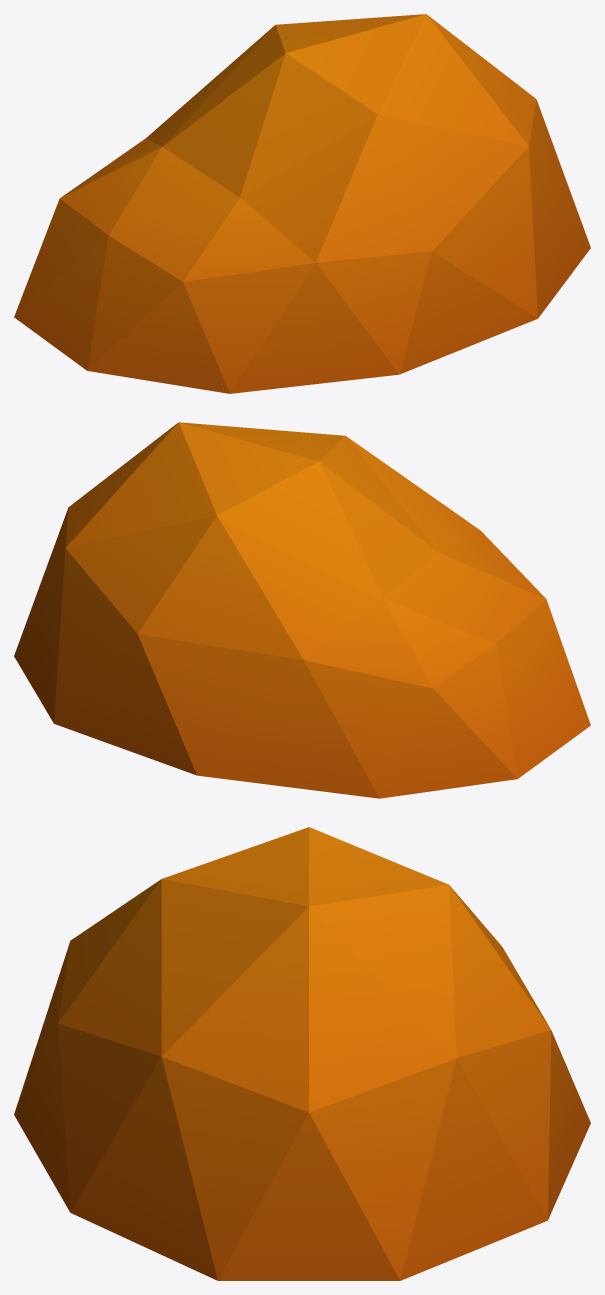
The model's file is autumn bush plant 3.fbx.
The picture shows the model from 3 angles, top to bottom: view 1: azimuth 30°, elevation 25°; view 2: azimuth 150°, elevation 25°; view 3: azimuth 270°, elevation 25°; orthographic projection. The views are drawn at different scales.
Parts seen in each view (by area): view 1: autumn bush plant 3; view 2: autumn bush plant 3; view 3: autumn bush plant 3.
Part boxes in pixels (bbox=[...]): autumn bush plant 3: bbox=[14, 14, 590, 393]; autumn bush plant 3: bbox=[14, 422, 590, 798]; autumn bush plant 3: bbox=[14, 827, 590, 1280].
Size of the model in its own units: 245 by 111 by 196.
